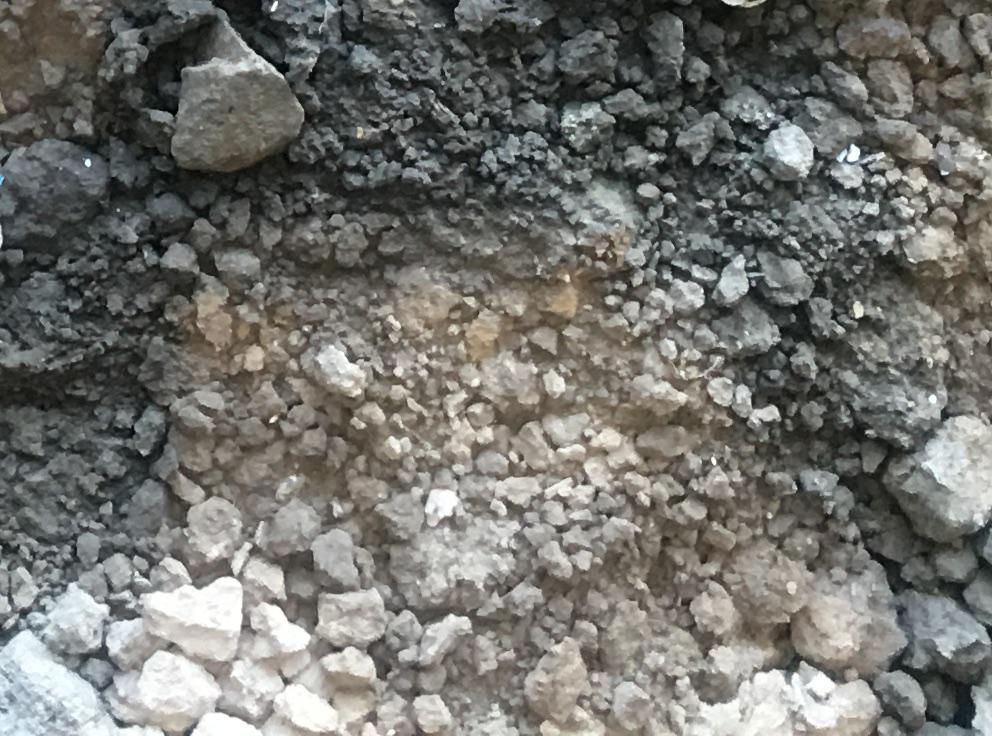block: (164, 16, 313, 172), (874, 413, 992, 544)
